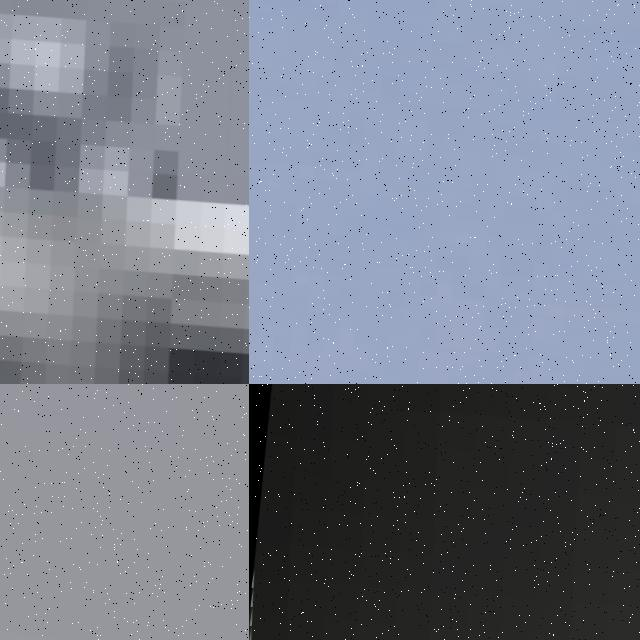0: (0, 0, 249, 384)
drone: (249, 0, 640, 384), (249, 384, 640, 640)
